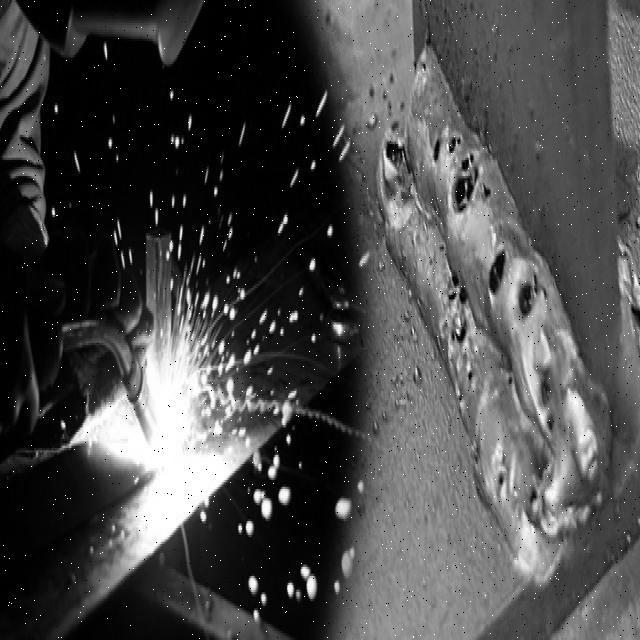Porosity: (427, 128, 497, 216), (381, 135, 414, 209), (516, 268, 548, 322), (486, 236, 511, 301), (527, 471, 548, 518), (446, 268, 470, 309), (450, 317, 469, 351), (537, 374, 551, 410), (495, 467, 507, 492), (471, 442, 482, 467), (547, 414, 555, 435), (420, 59, 428, 79), (438, 239, 447, 254), (430, 249, 437, 268), (507, 375, 515, 389), (468, 367, 474, 383), (458, 392, 463, 403)
